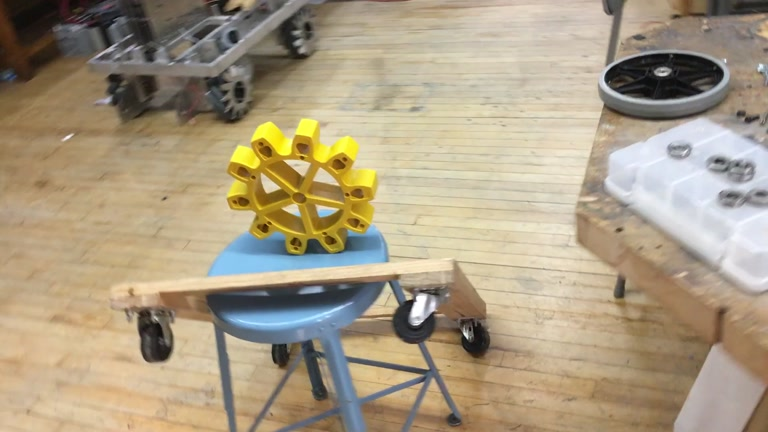gear: (226, 119, 379, 255)
